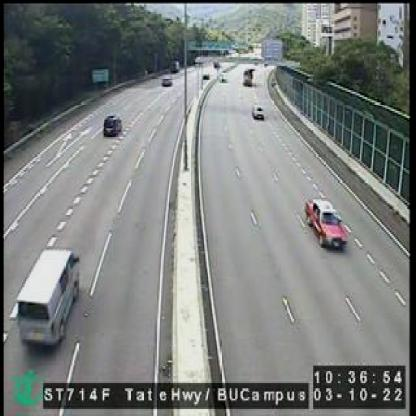Car: (17, 250, 78, 343), (303, 196, 344, 249), (103, 112, 121, 134), (251, 104, 264, 121), (161, 76, 169, 87)
